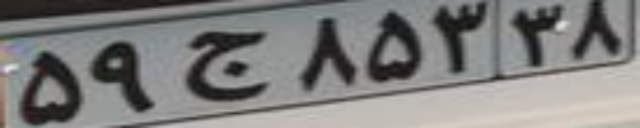3: (432, 1, 484, 75), (510, 4, 563, 67)
5: (18, 49, 84, 124), (364, 10, 425, 83)
8: (297, 16, 356, 91), (572, 0, 623, 58)
9: (89, 41, 153, 113)
jim: (180, 28, 274, 100)
